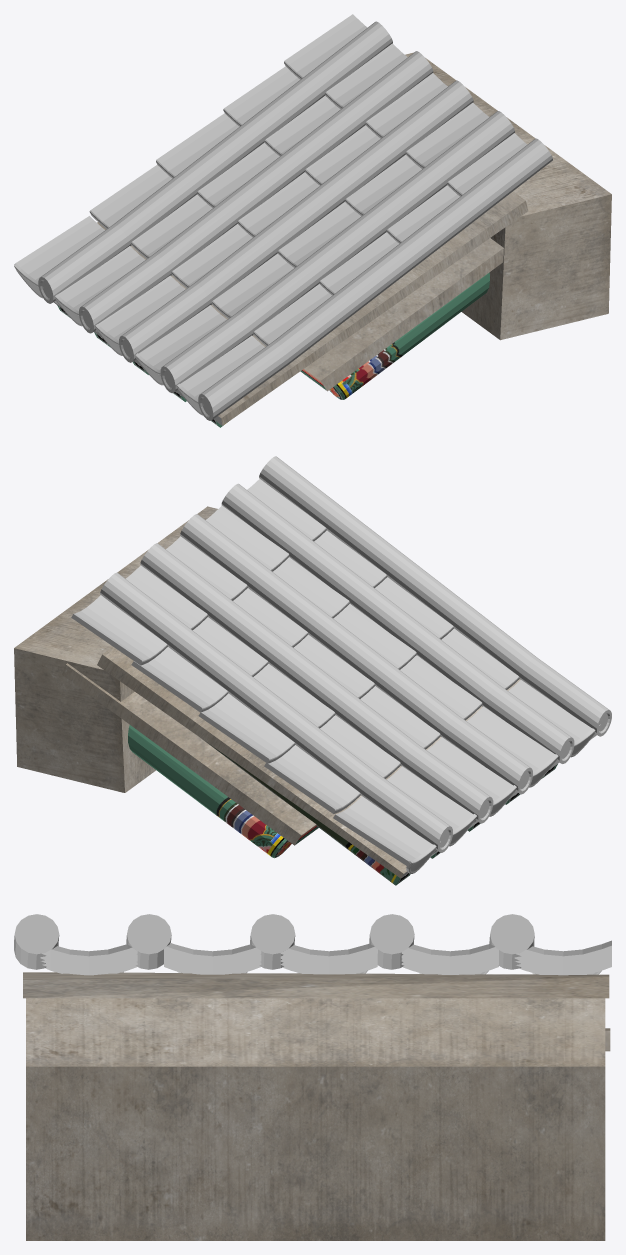
Rendered from SM_Roof_23.fbx.
The picture shows the model from 3 angles, top to bottom: view 1: azimuth 30°, elevation 25°; view 2: azimuth 150°, elevation 25°; view 3: azimuth 270°, elevation 25°; orthographic projection. The views are drawn at different scales.
Visible parts, largest first — view 1: SM_Roof_23; view 2: SM_Roof_23; view 3: SM_Roof_23.
Boxes of the visible parts, left/top/right/bottom form: SM_Roof_23: left=14, top=14, right=611, bottom=427; SM_Roof_23: left=14, top=456, right=611, bottom=885; SM_Roof_23: left=14, top=914, right=611, bottom=1240.
Bounding box in the file's own units: 392 × 338 × 211.
